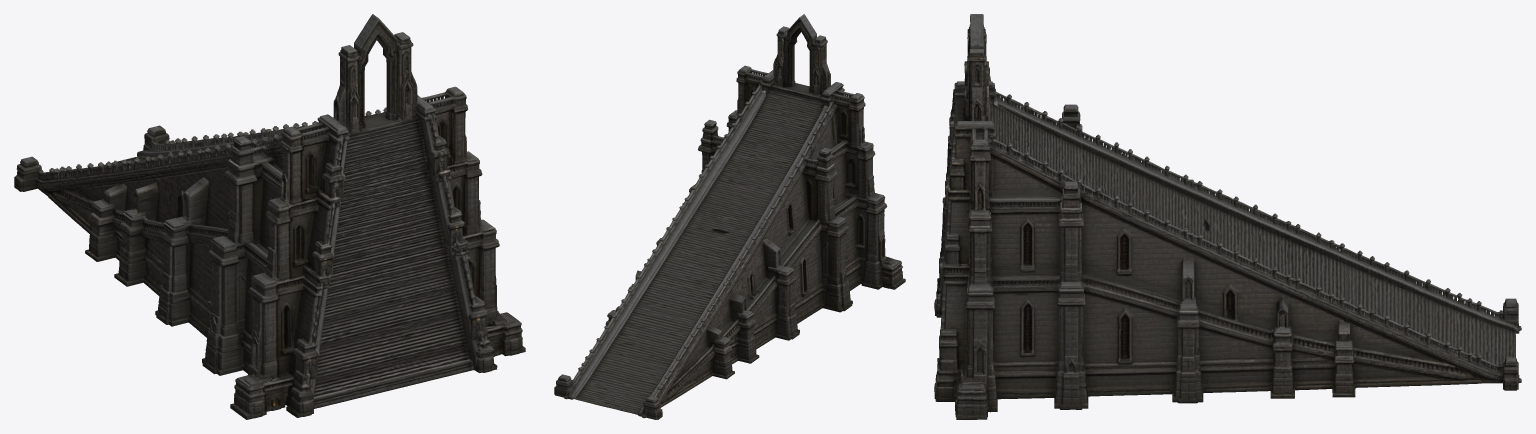
Rendered from temple_staircase.glb.
3 views of the same model, side by side, from view 1: azimuth 30°, elevation 25°; view 2: azimuth 150°, elevation 25°; view 3: azimuth 270°, elevation 25° (orthographic). The views are drawn at different scales.
Size of the model in its own units: 0.5098 by 0.6319 by 0.9808.
1 material, 1 textured.
